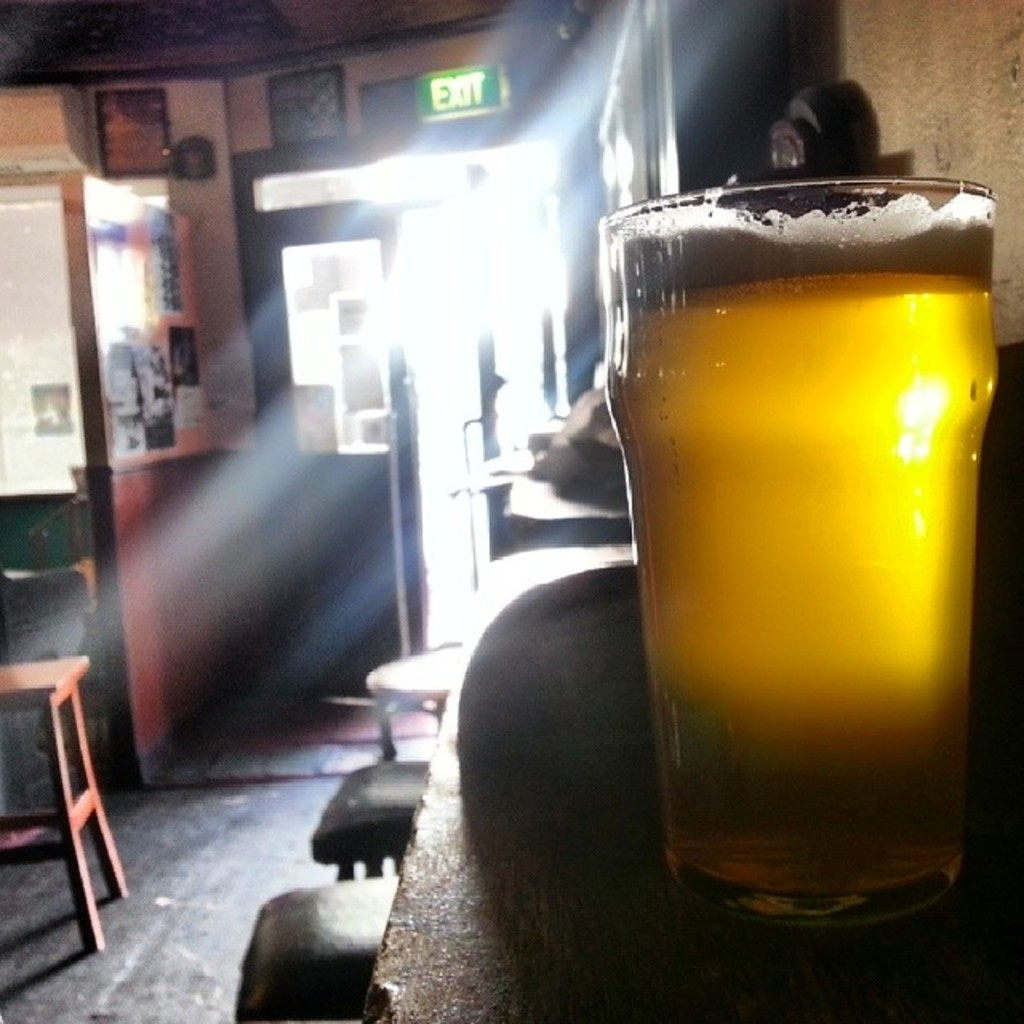Beer: (604, 139, 1017, 928)
